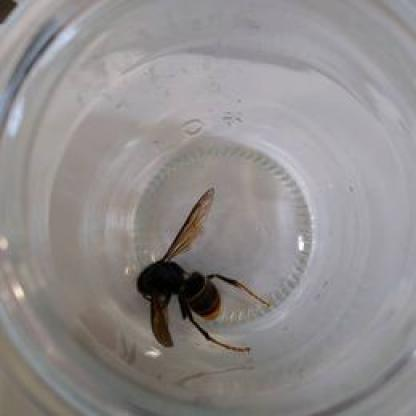Asian Hornet: (134, 185, 267, 360)
